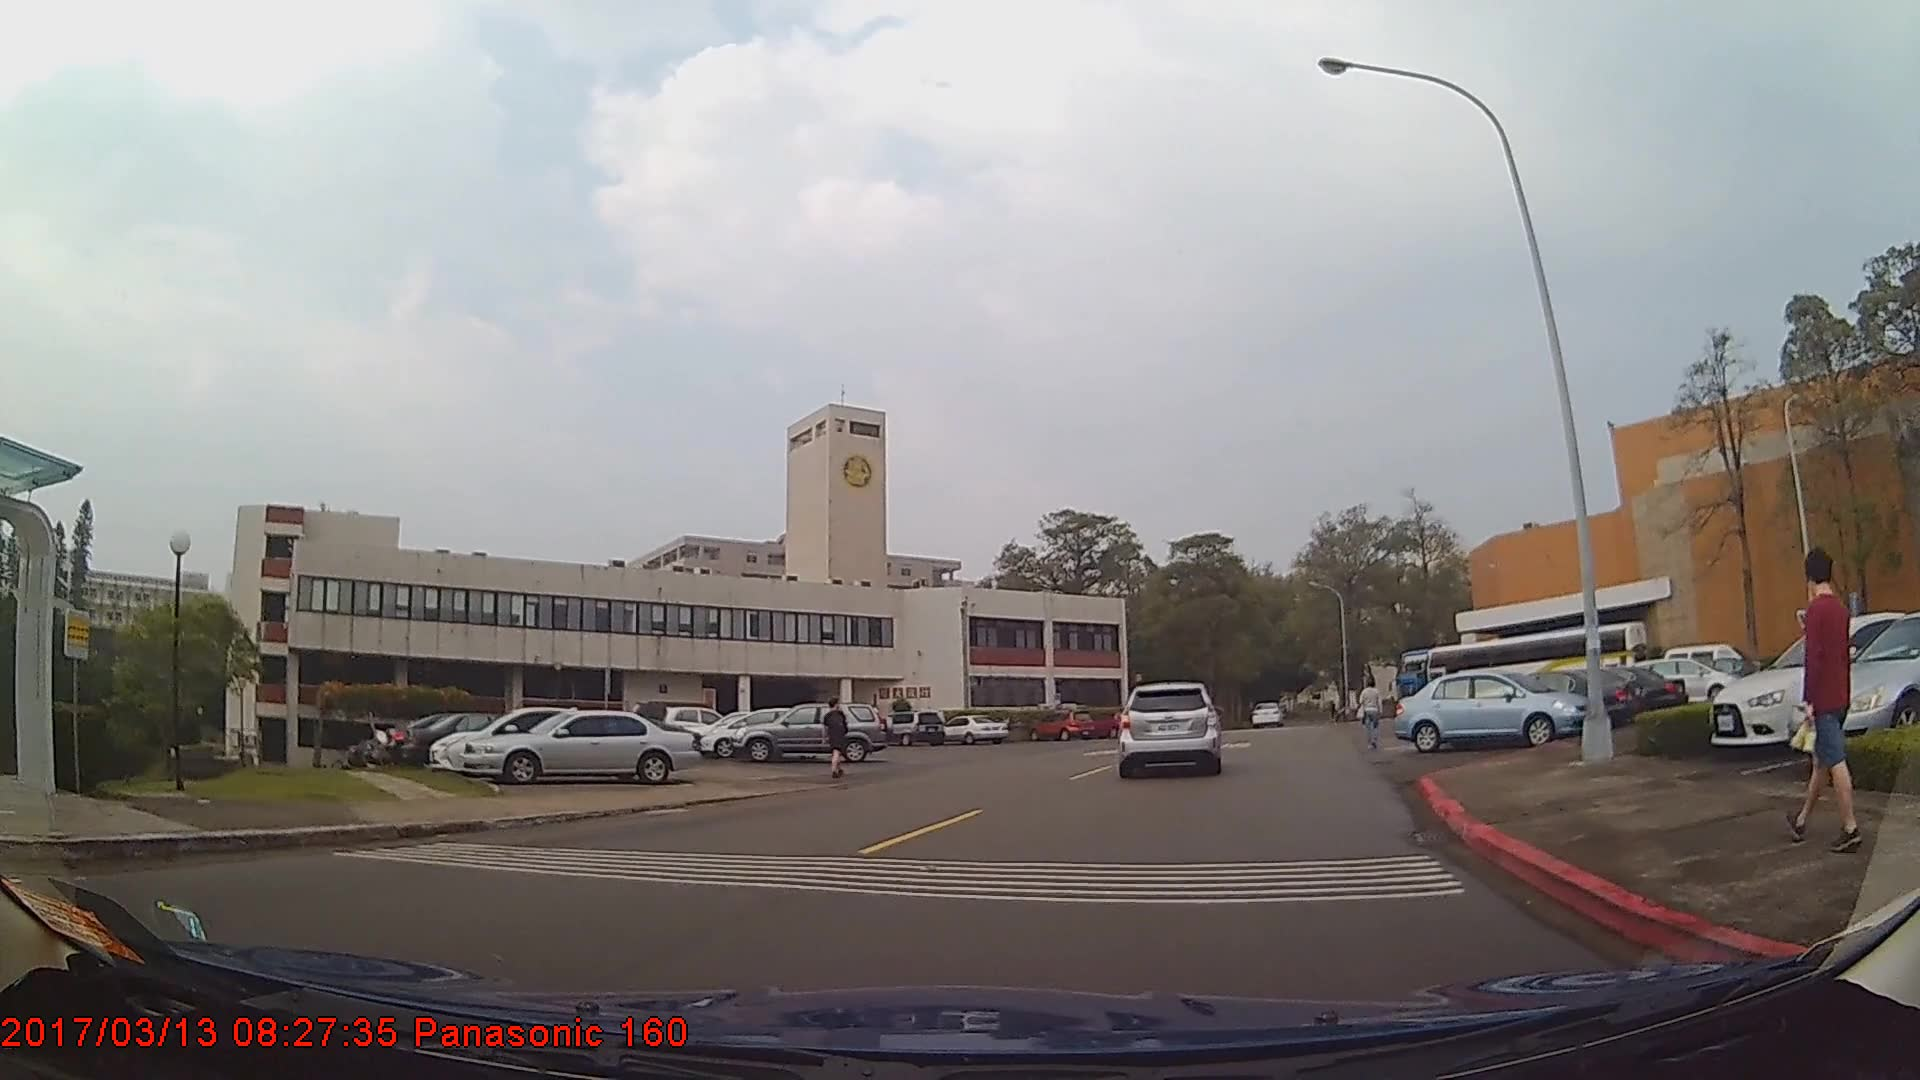pedestrian: (1788, 546, 1859, 846), (816, 685, 860, 790), (1356, 676, 1385, 746)
vehicle: (1709, 610, 1920, 748), (1787, 612, 1920, 762), (458, 709, 698, 784), (1389, 669, 1590, 752), (423, 703, 642, 774), (1453, 669, 1641, 729), (398, 709, 563, 769), (1121, 678, 1219, 778), (734, 703, 892, 765), (1533, 665, 1686, 717), (698, 705, 828, 757), (1624, 656, 1742, 703), (880, 711, 945, 748), (1026, 709, 1094, 743), (939, 715, 1007, 746), (1248, 698, 1281, 728)
